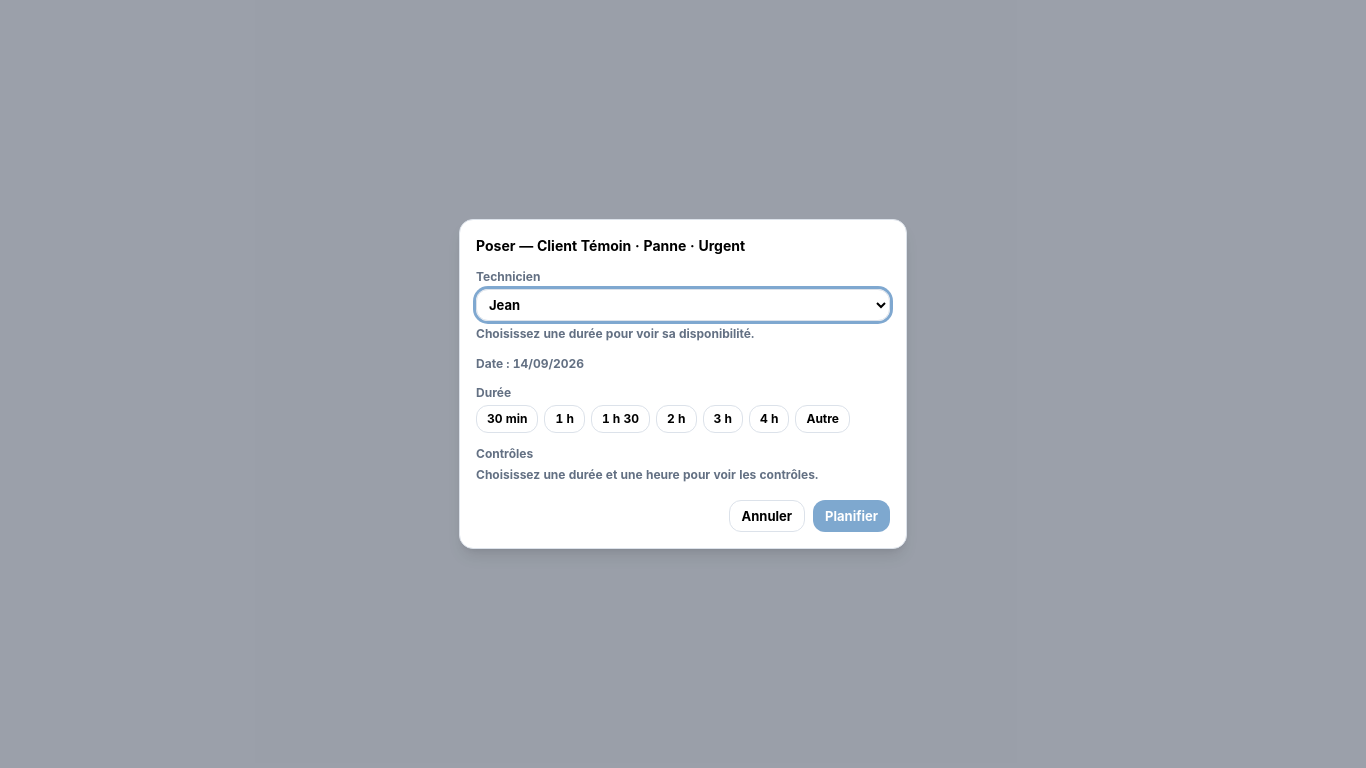
Test case: le libellé sous « Technicien », une fois l'heure choisie (9F3B point 3) › DATE PASSÉE CONFIRMABLE — même défaut, second motif : le libellé et la case dédiés, jamais ceux du jour fermé
Click the button "1 h".
click(565, 419)  # box [544, 405, 585, 433]
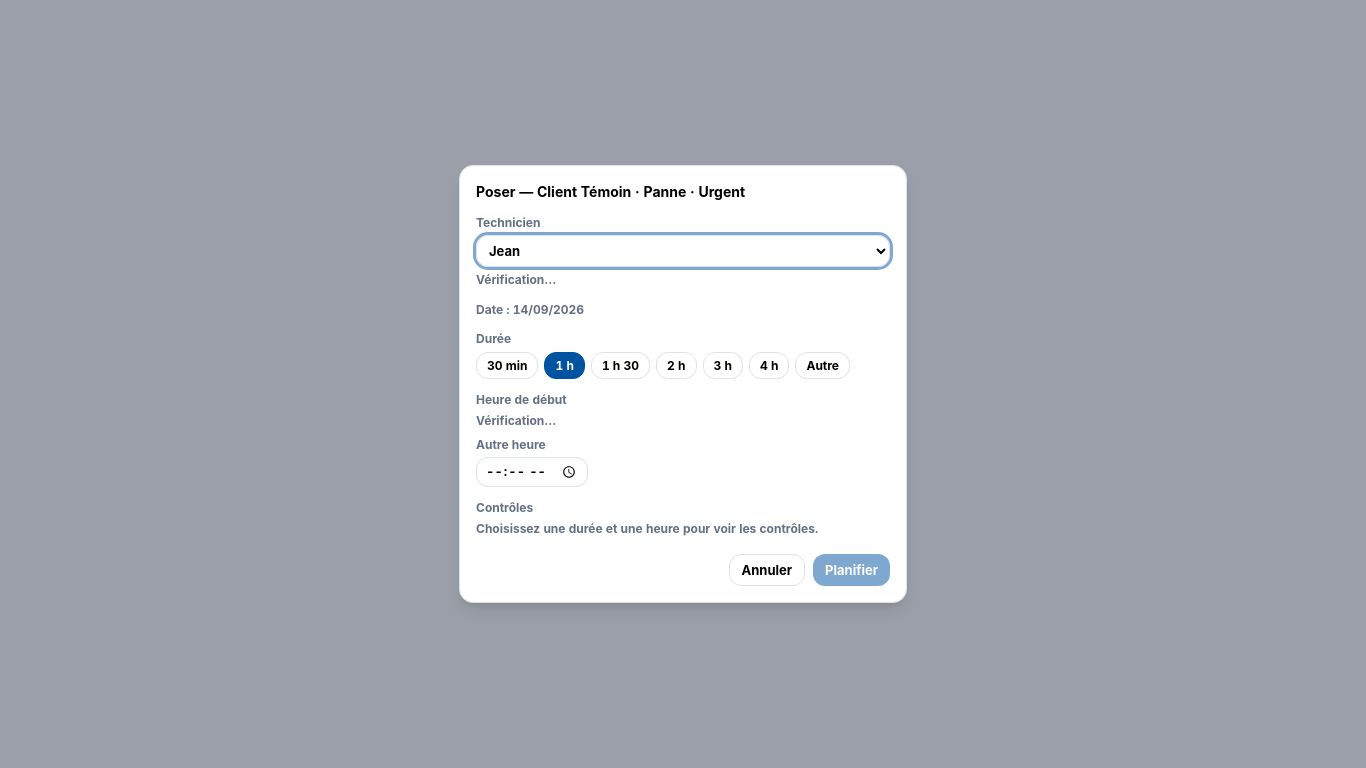
Type "09:00" into the time field labelled "Autre heure".
click(532, 472); type("09:00")  # box [476, 457, 588, 487]
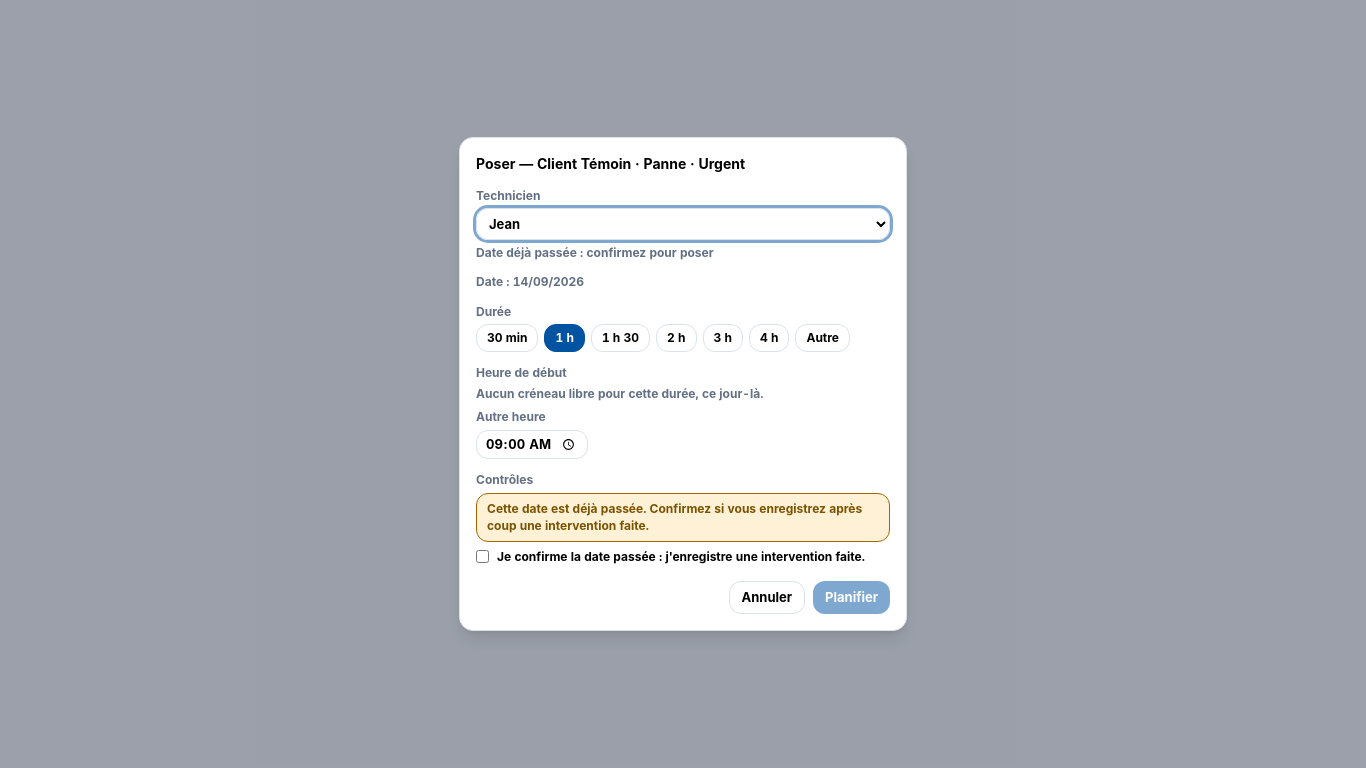
Expected: the text "Date déjà passée : confirmez pour poser" is shown, [476, 245, 714, 260]
Expected: the checkbox labelled "Je confirme la date passée : j'enregistre une intervention faite." is shown, [476, 550, 489, 563]
